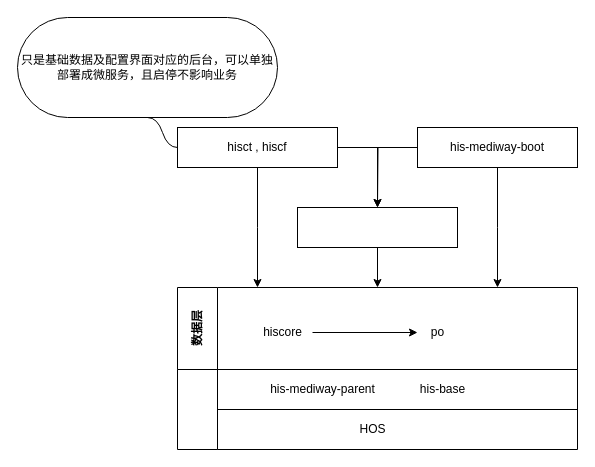
Image size: 595x467. Some labels were removed from this diagram. The shapes that lost their labels are listed below. From the top down, each one's box as (x1, y1, x2, y2) in pixels, then its label:
(296, 206, 458, 248): hisctsv , hiscfsv
(176, 368, 578, 450): 框架层
